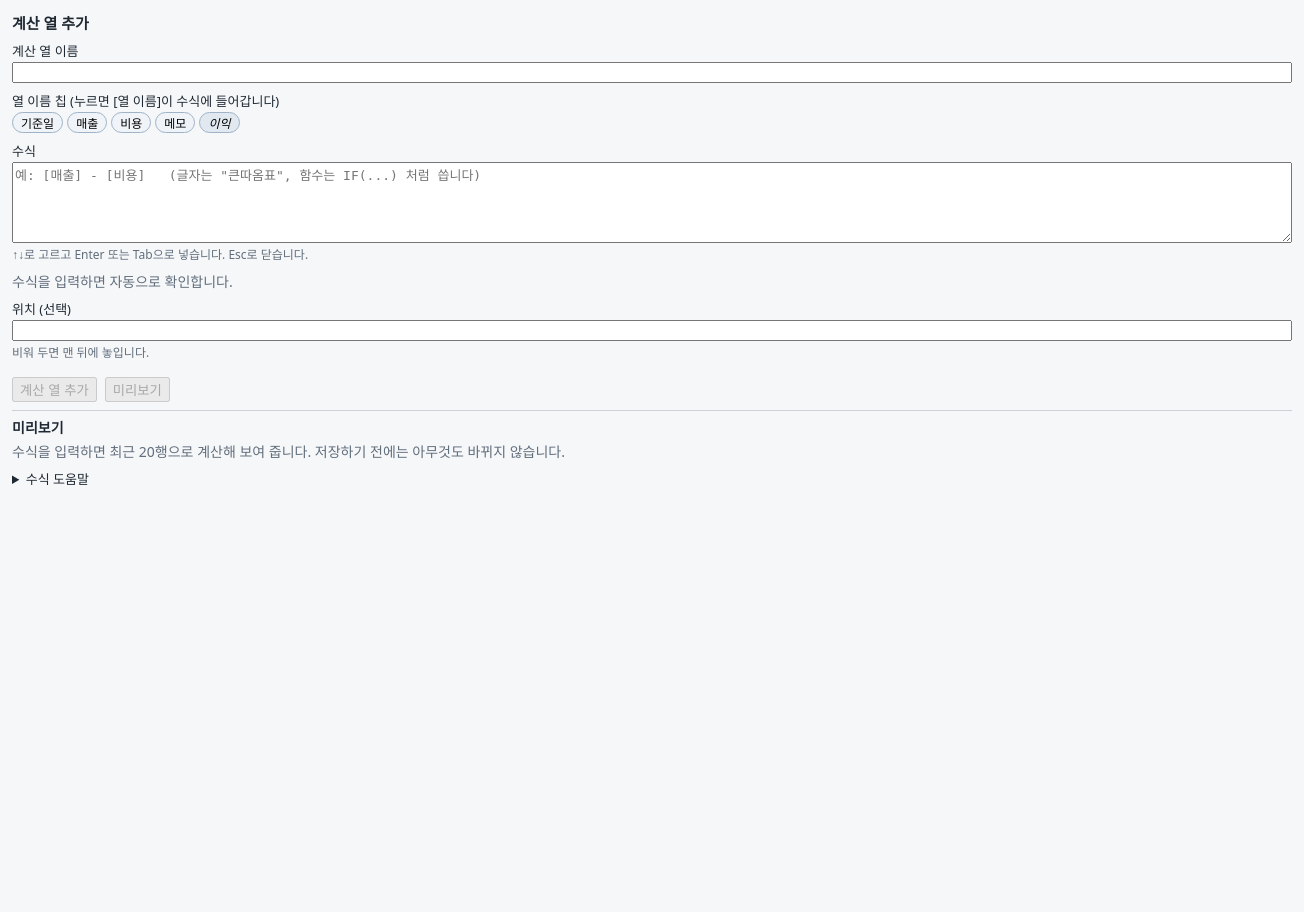
it: 함수·열 자동완성 › ↑로 마지막 후보로 돌아가고, 마우스로 눌러도 넣어진다
Type "ROU" into the text box labelled "수식" at (652, 202), box x1=12 y1=162 x2=1292 y2=243
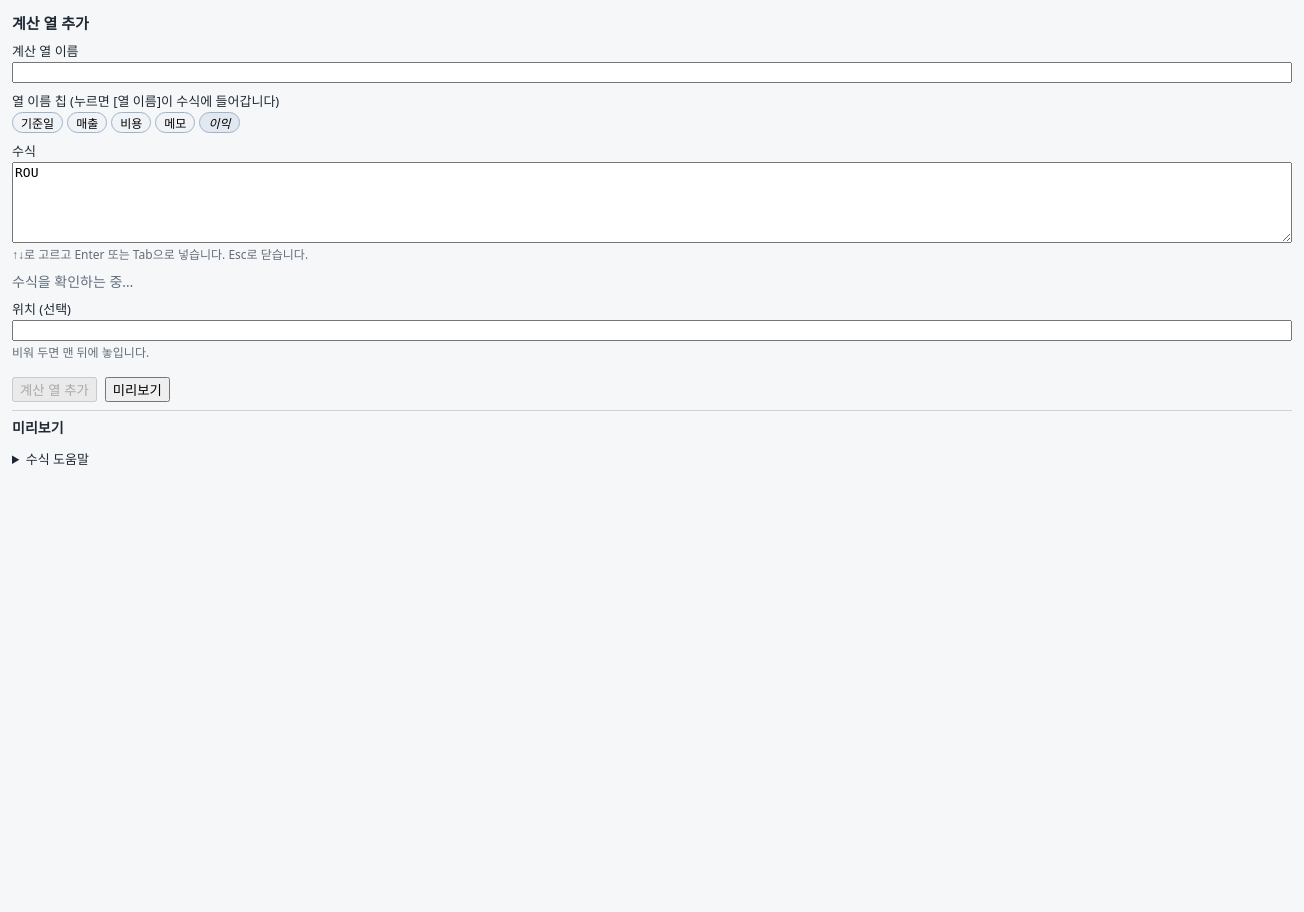
Press x in the text box labelled "수식", box x1=12 y1=162 x2=1292 y2=243
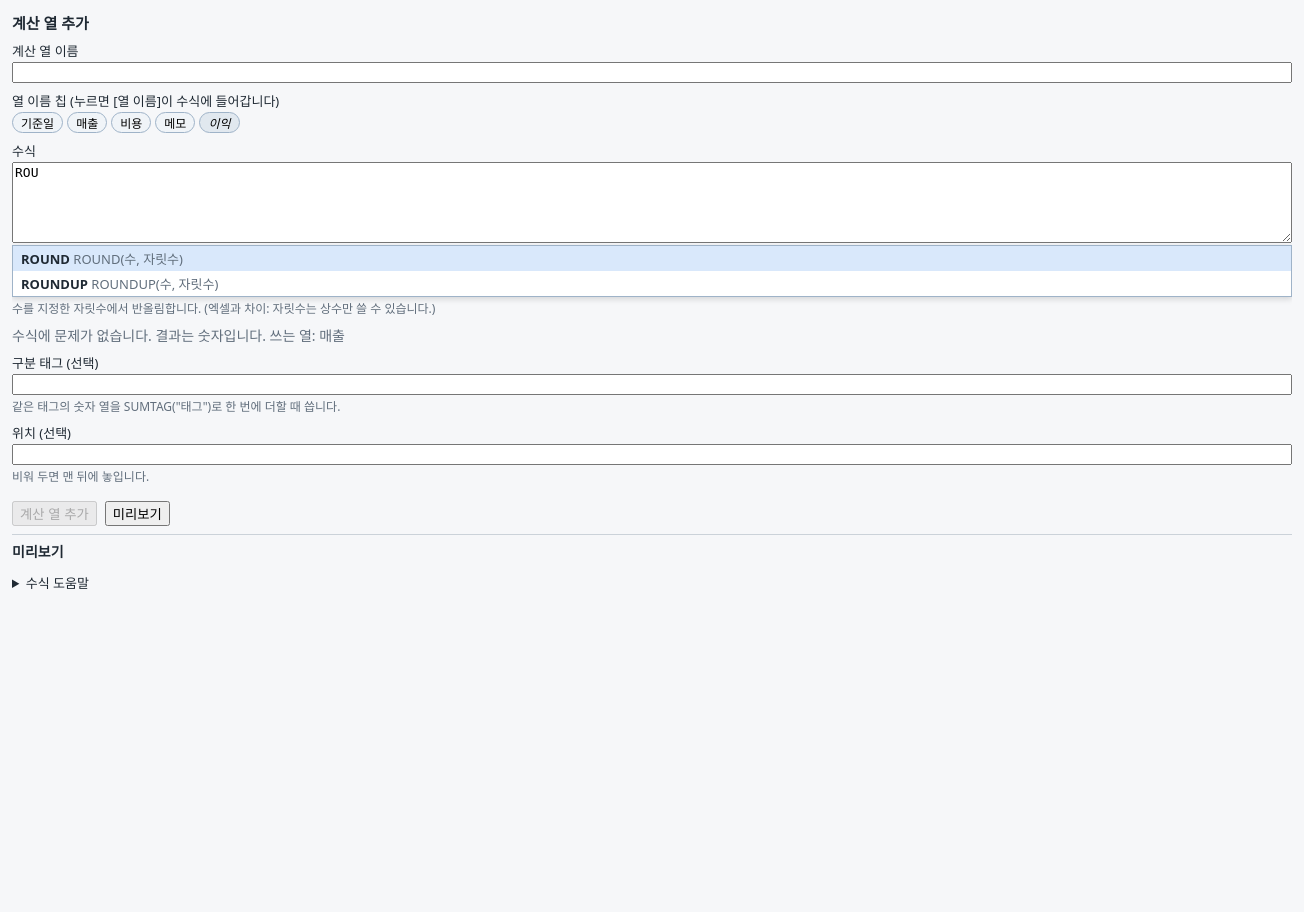
Press ArrowUp in the text box labelled "수식", box x1=12 y1=162 x2=1292 y2=243
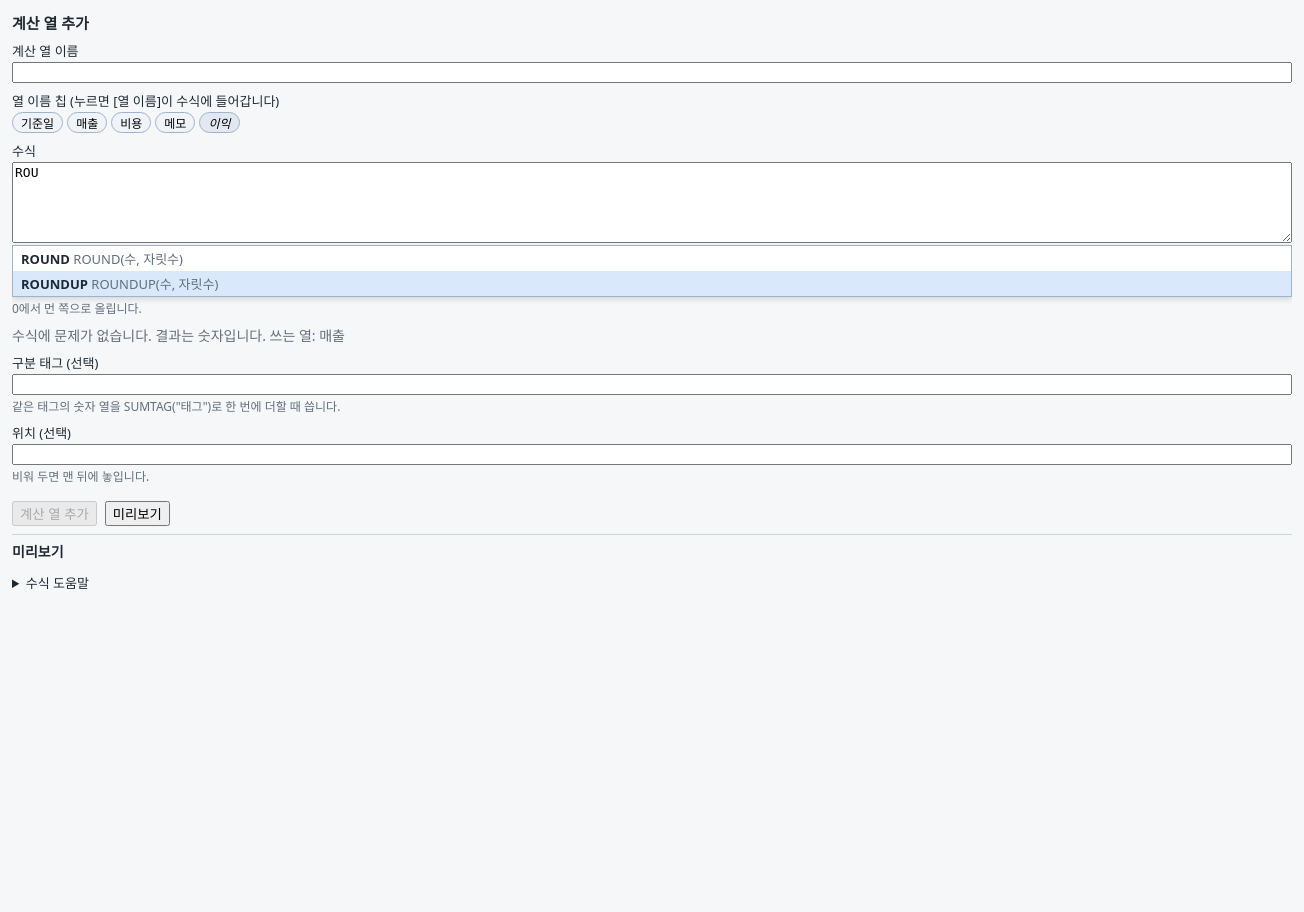
Check: the option "ROUNDUP ROUNDUP(수, 자릿수)" is selected, box x1=13 y1=271 x2=1291 y2=296
Click the option "ROUND ROUND(수, 자릿수)" at (102, 259), box x1=21 y1=250 x2=183 y2=268
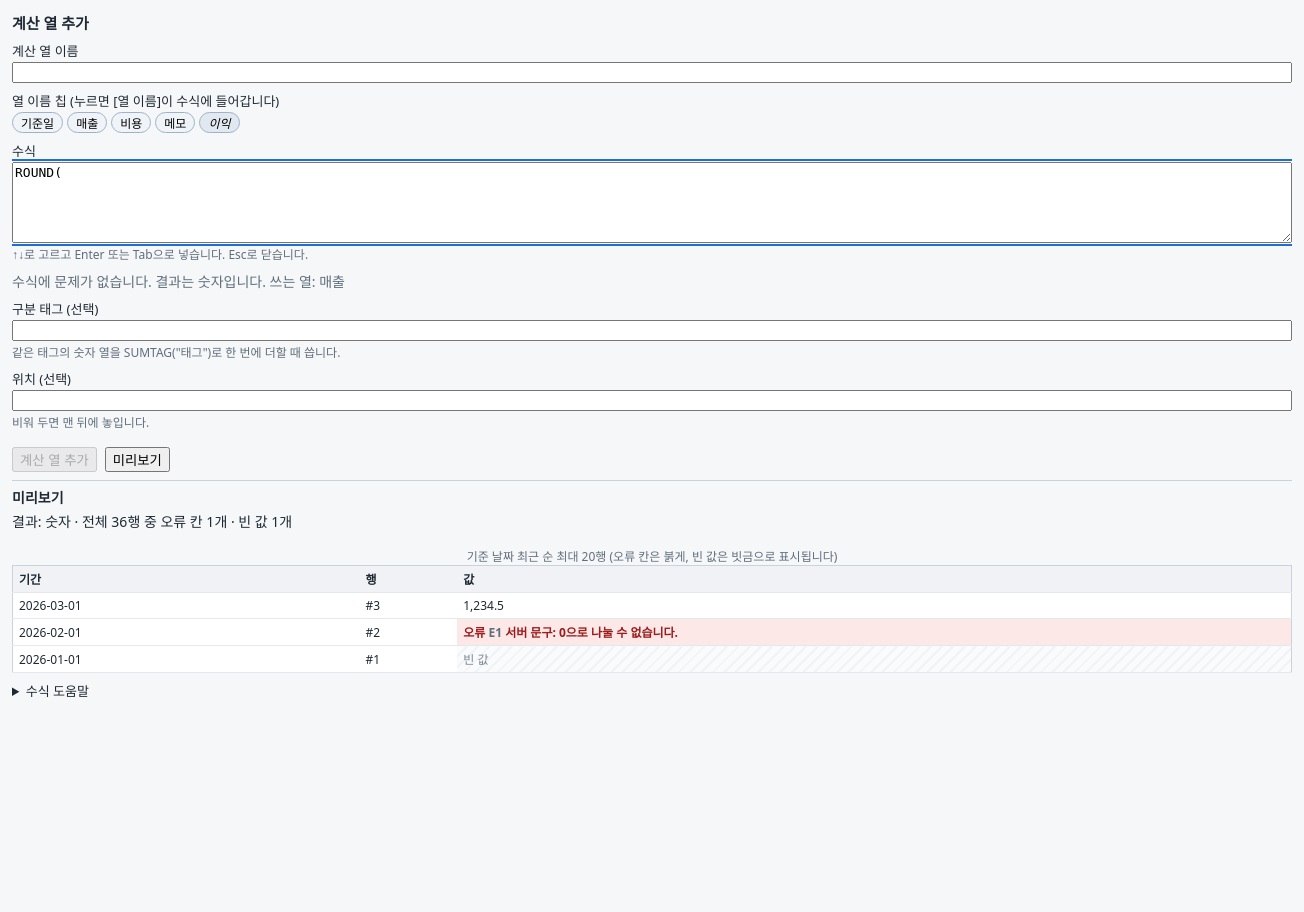
Check: the text box labelled "수식" holds "ROUND(", box x1=12 y1=162 x2=1292 y2=243
